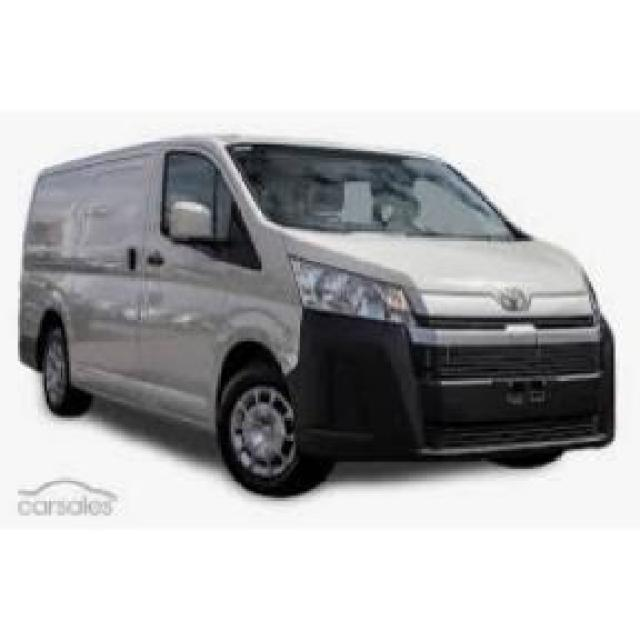Van: (27, 130, 620, 503)
